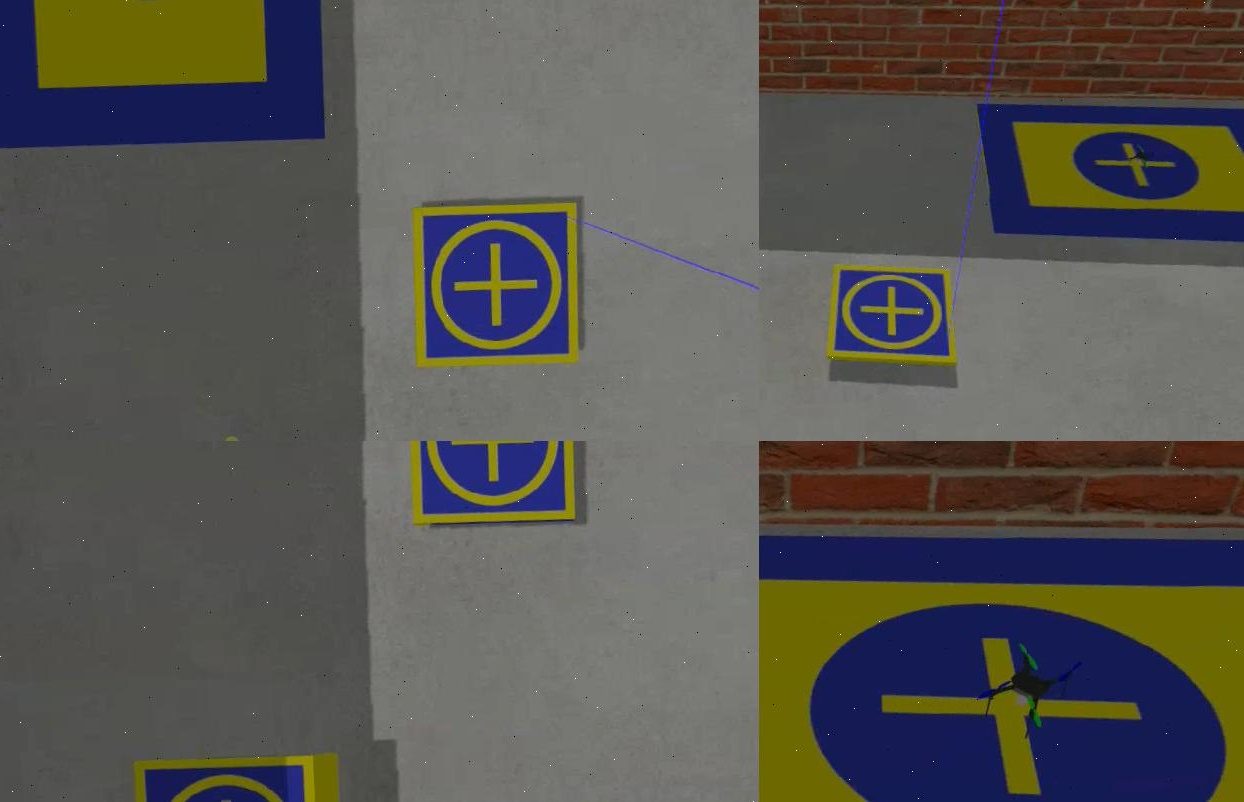large_base: (757, 498, 1242, 802), (0, 1, 332, 158), (976, 85, 1242, 267)
small_base: (403, 202, 584, 376), (407, 441, 576, 527), (823, 263, 960, 369), (129, 751, 328, 802)
